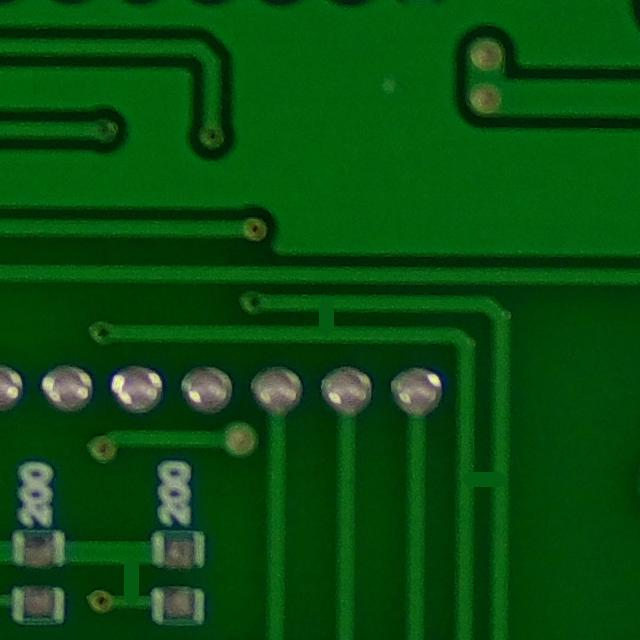short: (290, 289, 351, 352)
